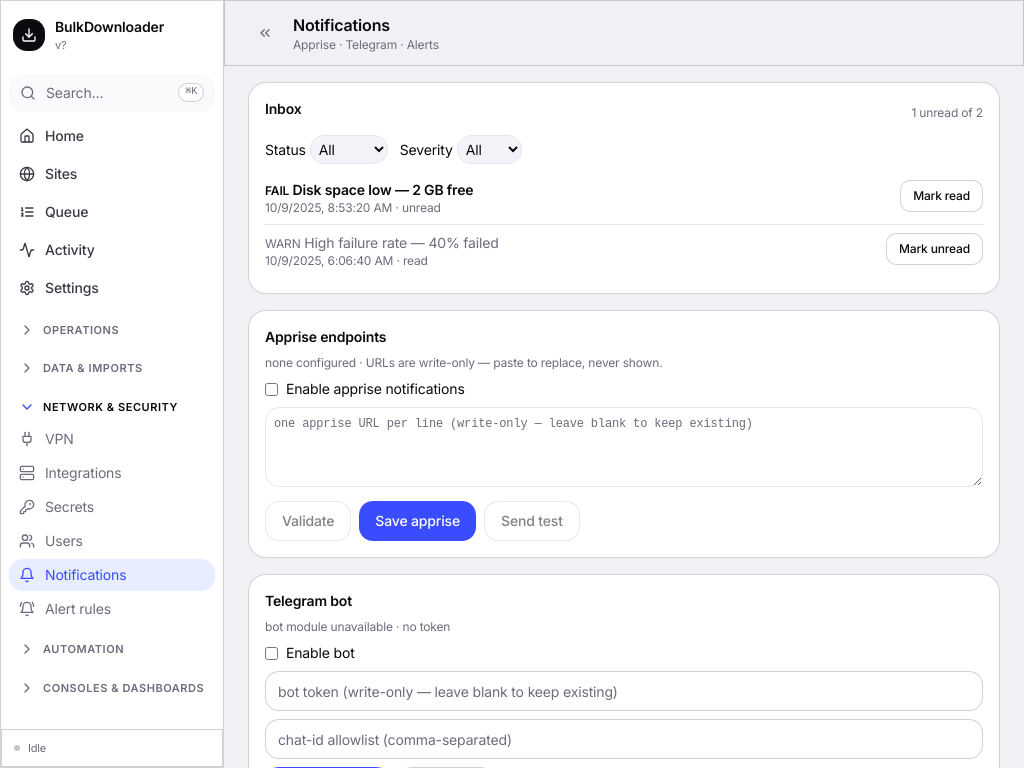
Test: F005 notification inbox › the status and severity filters re-query the inbox and narrow the list
Expected: the number of list items is 2, [265, 172, 983, 225]; [265, 225, 983, 277]
Select "Unread" in the dropdown named "Status filter" at (349, 150), box [310, 135, 388, 164]
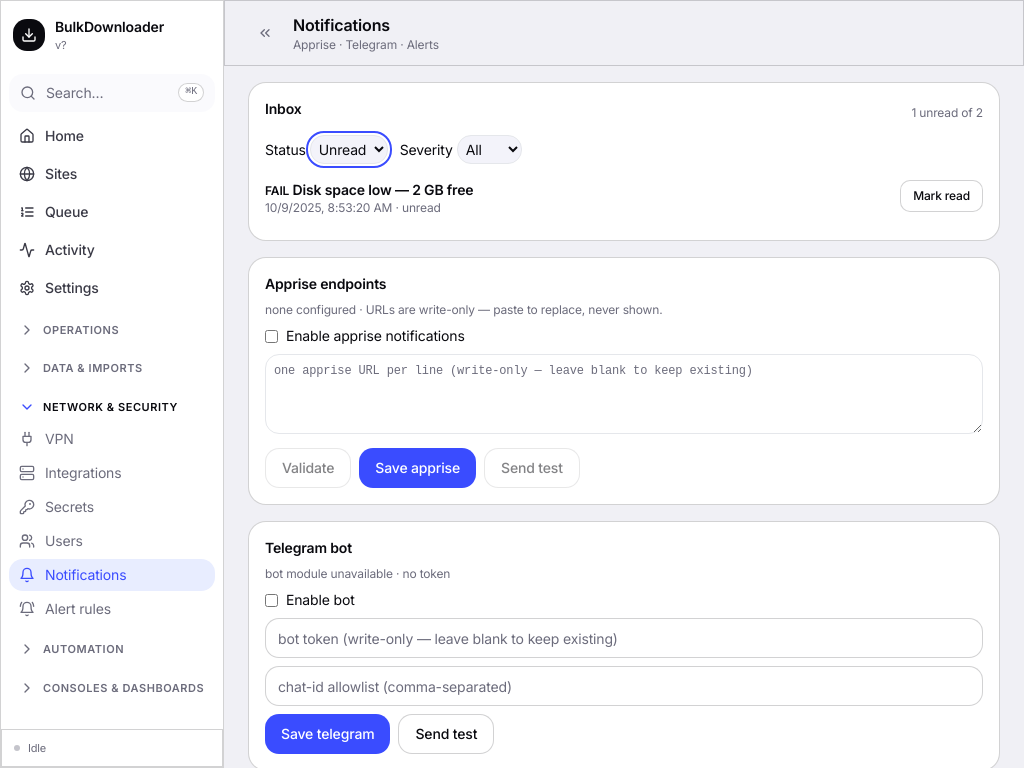
Expected: the list item shows "Disk space low", [292, 181, 392, 198]
Result: the number of list items is 1 at [265, 172, 983, 224]
Select "Fail" in the dropdown named "Severity filter" at (489, 150), box [457, 135, 522, 164]
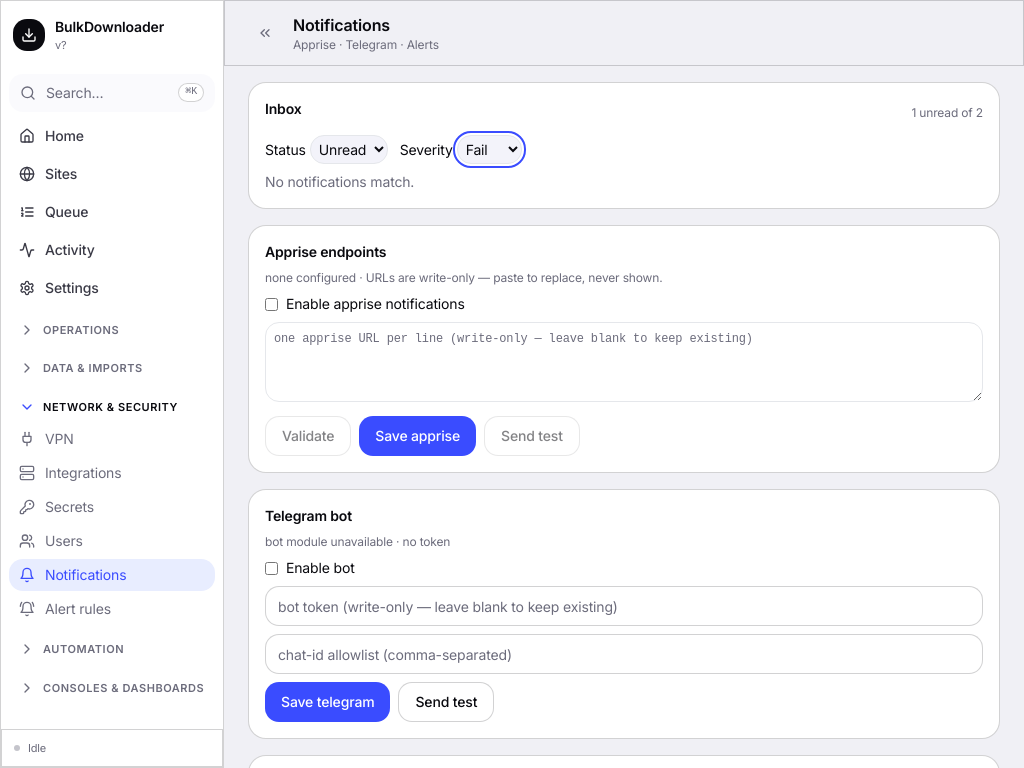
Result: the text "No notifications match." is shown at [265, 173, 414, 190]
